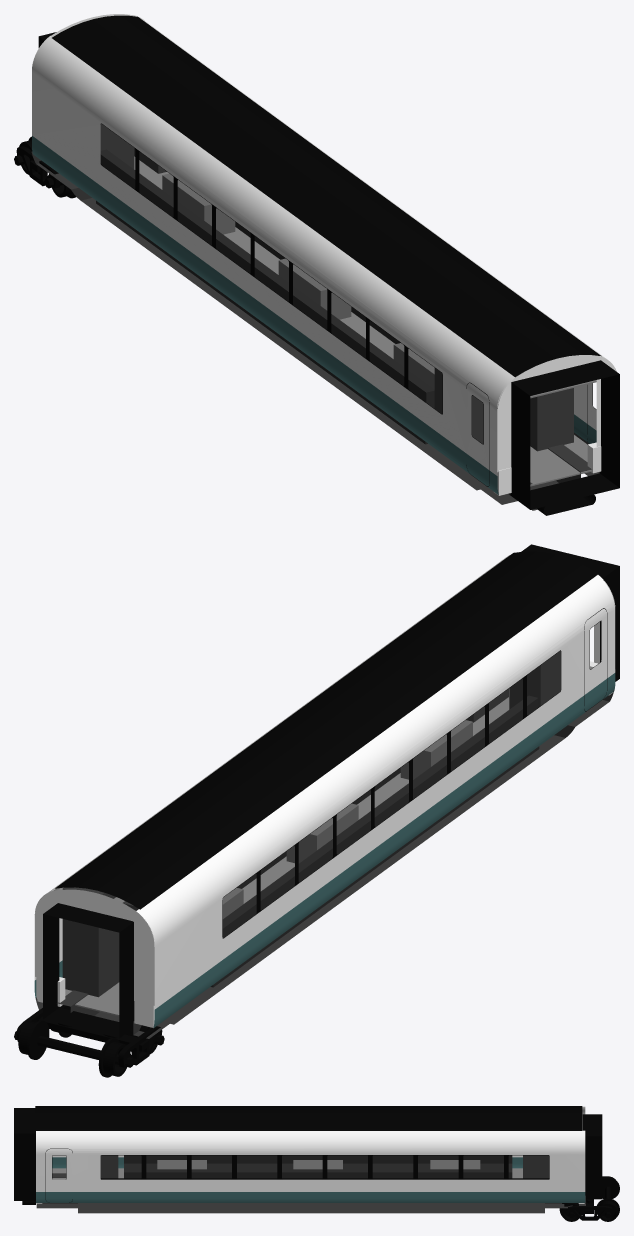
Rendered from hs_train_lounge_car.glb.
3 views of the same model, one above another, from view 1: azimuth 30°, elevation 25°; view 2: azimuth 150°, elevation 25°; view 3: azimuth 270°, elevation 25° (orthographic). The views are drawn at different scales.
Parts seen in each view (by area): view 1: SketchUp, Mesh_1621_1, Box_3_1, Box, Box_4 (×2), Box_5_1, Box_7, Box_4_1, Box_5, Box_6; view 2: SketchUp, Mesh_1621_1, Box_3_1, Box_4, Box, Box_5, Box_5_1, Box_6, Box_4_1, Line004, Circle014, Circle015 (+2 smaller); view 3: SketchUp, Mesh_1621_1, Box_1, Box_3_1, Box_4_1, Box_4 (×2), Box_7, Box_5_1, Box_6, Line004, Circle015, Box (+1 smaller).
Boxes of the visible parts, <box> form: SketchUp: <box>31,14,619,515</box>; Mesh_1621_1: <box>52,15,601,377</box>; Box_3_1: <box>100,149,434,408</box>; Box: <box>134,156,591,486</box>; Box_4 (×2): <box>100,123,573,451</box>; Box_5_1: <box>278,258,351,319</box>; Box_7: <box>162,173,235,234</box>; Box_4_1: <box>96,200,427,444</box>; Box_5: <box>434,368,483,444</box>; Box_6: <box>393,343,434,388</box>; SketchUp: <box>34,544,619,1038</box>; Mesh_1621_1: <box>55,551,598,909</box>; Box_3_1: <box>222,695,538,938</box>; Box_4: <box>62,887,119,997</box>; Box: <box>65,688,509,1016</box>; Box_5: <box>509,651,560,709</box>; Box_5_1: <box>286,803,358,863</box>; Box_6: <box>400,720,472,779</box>; Box_4_1: <box>210,746,539,987</box>; Line004: <box>16,1008,162,1067</box>; Circle014: <box>18,1021,126,1076</box>; Circle015: <box>27,1020,119,1077</box>; SketchUp: <box>14,1106,602,1213</box>; Mesh_1621_1: <box>35,1106,582,1130</box>; Box_1: <box>124,1169,512,1178</box>; Box_3_1: <box>124,1155,512,1163</box>; Box_4_1: <box>124,1163,512,1169</box>; Box_4 (×2): <box>101,1155,549,1178</box>; Box_7: <box>430,1160,480,1169</box>; Box_5_1: <box>293,1160,342,1169</box>; Box_6: <box>157,1160,206,1169</box>; Line004: <box>566,1176,612,1220</box>; Circle015: <box>597,1177,619,1216</box>; Box: <box>52,1168,522,1179</box>.
Size of the model in its own units: 3.01 by 3.86 by 22.06.
